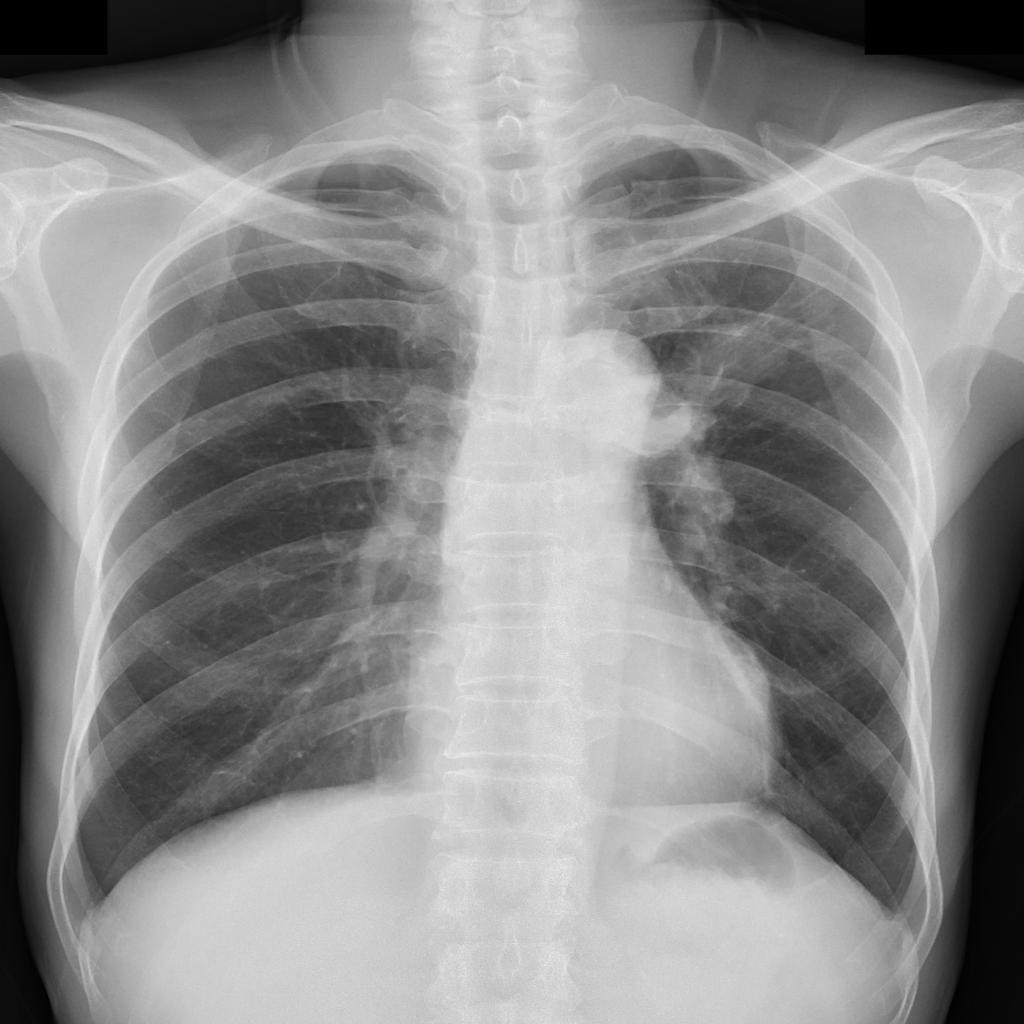Nodule: (664, 327, 791, 406)
